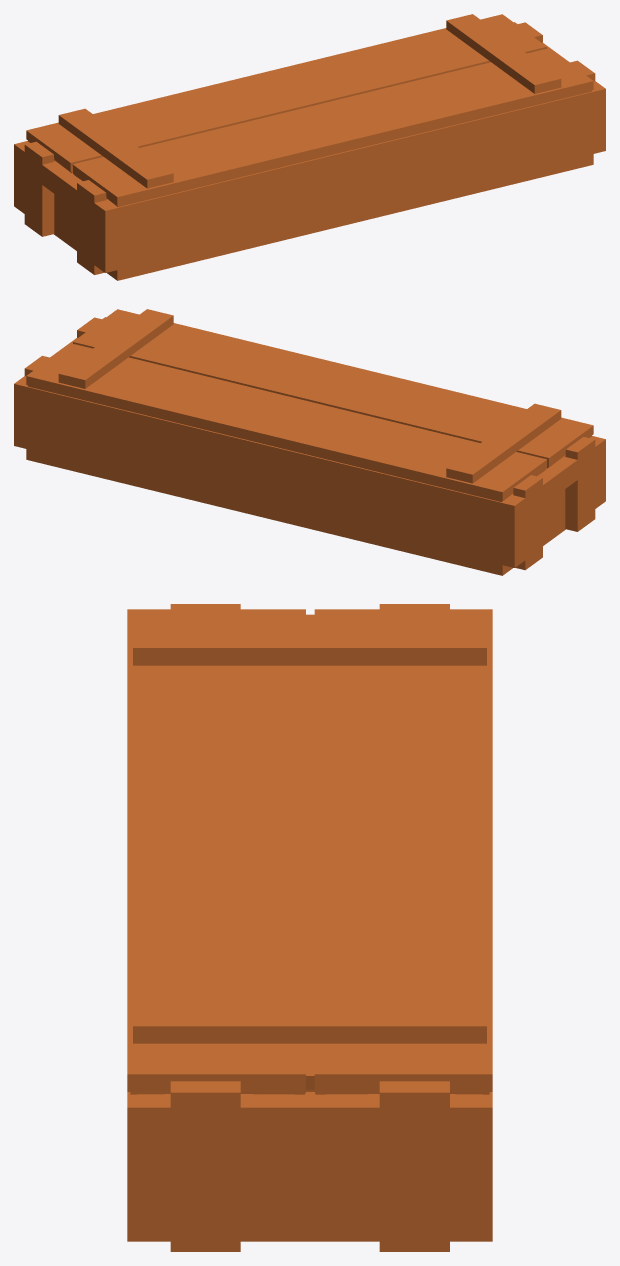
The model's file is AmmoCrate.fbx.
3 views of the same model, one above another, from view 1: azimuth 30°, elevation 25°; view 2: azimuth 150°, elevation 25°; view 3: azimuth 270°, elevation 25° (orthographic). The views are drawn at different scales.
Parts seen in each view (by area): view 1: Ammo Crate; view 2: Ammo Crate; view 3: Ammo Crate.
Part boxes in pixels (<box>): Ammo Crate: <box>14,14,605,280</box>; Ammo Crate: <box>14,309,605,575</box>; Ammo Crate: <box>127,604,492,1251</box>.
Bounding box in the file's own units: 340 × 59.96 × 107.
